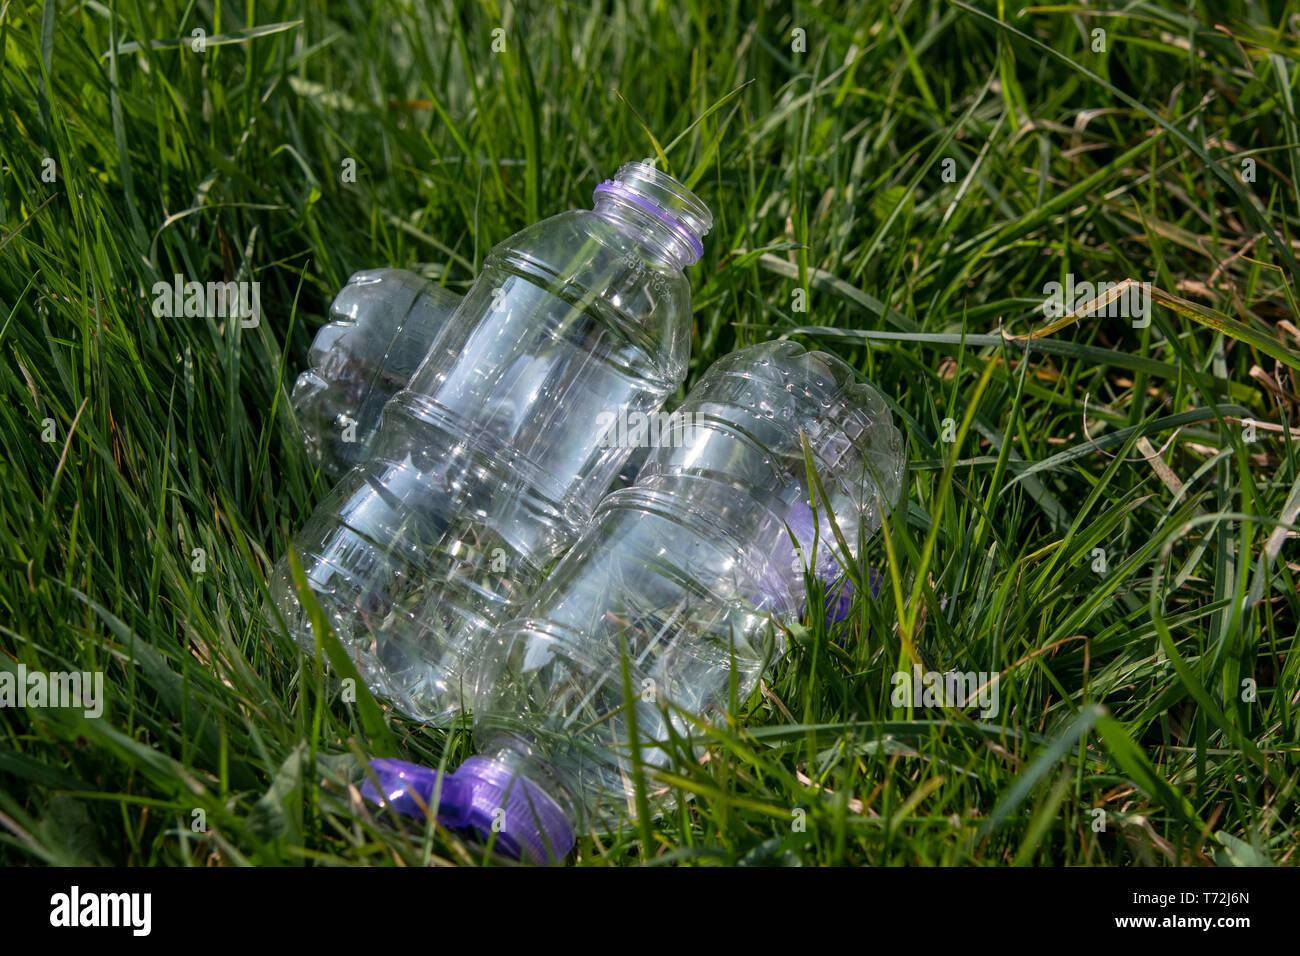bottle: (260, 117, 946, 843)
